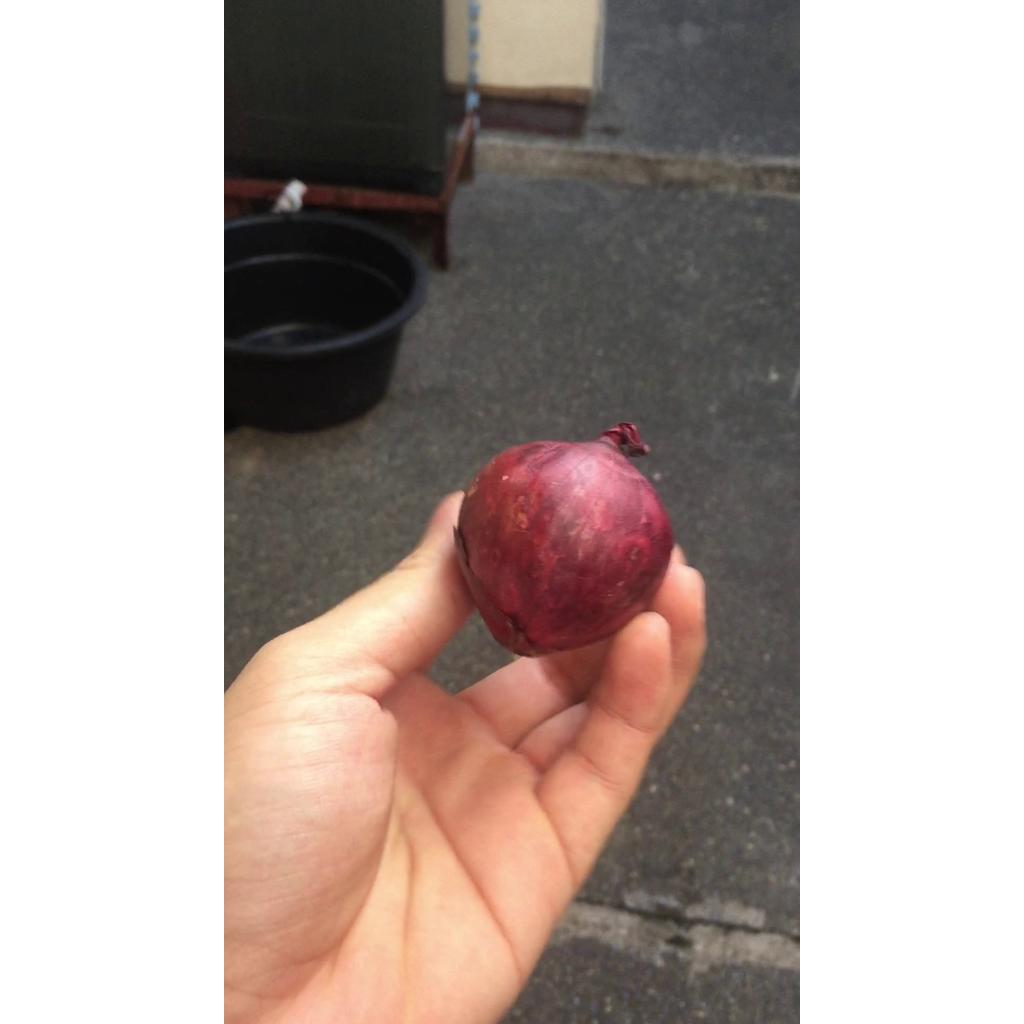Onion: (455, 423, 673, 656)
